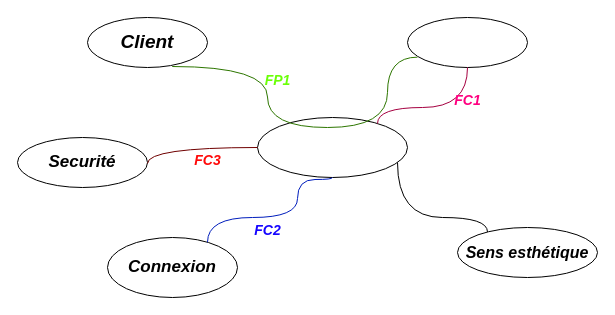
Some shapes in this 615 by 315 pixel diagram are drawn without their labels. Here are the shapes that lost their labels. From the top down, the centre of each, then its label:
At [467,42]: "Commerçant".
At [332,147]: "Application CarnetBI".
